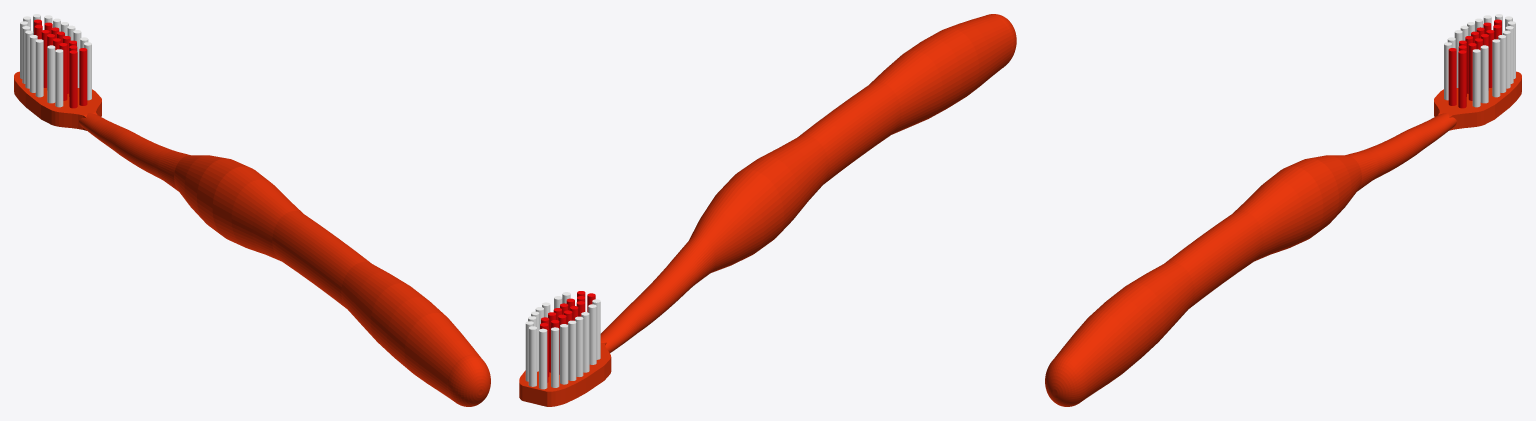
File: toothbrush.dae
The picture shows the model from 3 angles, left to right: view 1: azimuth 30°, elevation 25°; view 2: azimuth 150°, elevation 25°; view 3: azimuth 330°, elevation 25°; orthographic projection. The views are drawn at different scales.
Visible parts, largest first — view 1: Cylinder, Plane, Cylinder.027, Cylinder.028, Cylinder.001, Cylinder.018, Cylinder.002; view 2: Cylinder, Plane, Cylinder.030, Cylinder.023, Cylinder.024, Cylinder.020, Cylinder.029, Cylinder.027, Cylinder.019; view 3: Cylinder, Plane, Cylinder.025, Cylinder.026, Cylinder.002, Cylinder.017, Cylinder.001.
Boxes of the visible parts, <box> form: Cylinder: <box>79,113,490,406</box>; Plane: <box>14,71,101,130</box>; Cylinder.027: <box>47,45,55,103</box>; Cylinder.028: <box>55,49,63,107</box>; Cylinder.001: <box>69,50,77,108</box>; Cylinder.018: <box>35,39,43,97</box>; Cylinder.002: <box>79,48,87,105</box>; Cylinder: <box>600,14,1016,352</box>; Plane: <box>519,342,611,406</box>; Cylinder.030: <box>539,328,547,389</box>; Cylinder.023: <box>551,327,559,387</box>; Cylinder.024: <box>560,324,568,384</box>; Cylinder.020: <box>568,320,576,380</box>; Cylinder.029: <box>528,326,536,386</box>; Cylinder.027: <box>588,304,596,364</box>; Cylinder.019: <box>575,316,583,376</box>; Cylinder: <box>1045,113,1456,406</box>; Plane: <box>1434,71,1521,130</box>; Cylinder.025: <box>1472,49,1480,107</box>; Cylinder.026: <box>1480,45,1488,103</box>; Cylinder.002: <box>1458,50,1466,108</box>; Cylinder.017: <box>1492,39,1500,97</box>; Cylinder.001: <box>1448,48,1456,105</box>.
Size of the model in its own units: 0.7895 by 11.23 by 0.9909.
